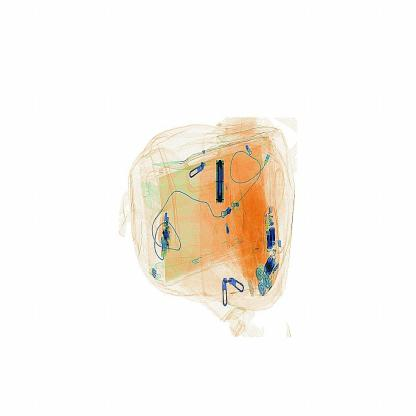scissors: (202, 146, 236, 214)
